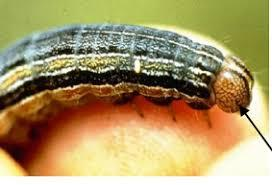fallarmy_worm: (1, 17, 255, 135)
